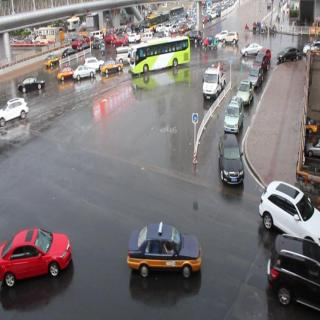BigCar: (128, 37, 190, 74)
Car: (125, 223, 202, 291), (1, 228, 72, 292), (265, 242, 320, 314), (260, 178, 320, 242), (217, 133, 245, 189), (0, 98, 30, 126), (203, 67, 222, 100), (15, 75, 46, 95), (224, 98, 242, 128), (237, 78, 252, 108), (278, 45, 300, 65), (101, 58, 122, 78), (41, 53, 60, 71), (220, 34, 238, 52), (57, 69, 74, 87), (74, 65, 92, 81), (240, 44, 256, 58)
